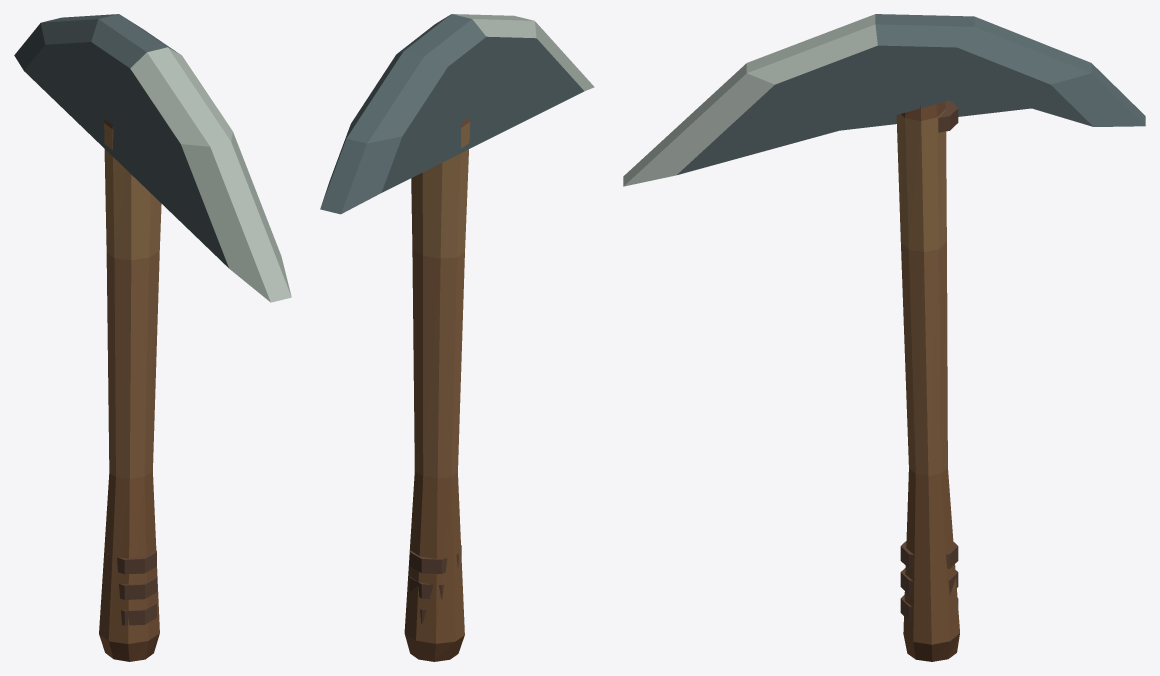
Rendered from Mattock.glb.
The picture shows the model from 3 angles, left to right: view 1: azimuth 30°, elevation 25°; view 2: azimuth 150°, elevation 25°; view 3: azimuth 270°, elevation 25°; orthographic projection. The views are drawn at different scales.
Parts seen in each view (by area): view 1: MattockMesh; view 2: MattockMesh; view 3: MattockMesh.
Boxes of the visible parts, <box> form: MattockMesh: <box>14,14,291,661</box>; MattockMesh: <box>320,14,594,661</box>; MattockMesh: <box>623,14,1145,661</box>.
Size of the model in its own units: 0.0718 by 0.7755 by 0.58.
